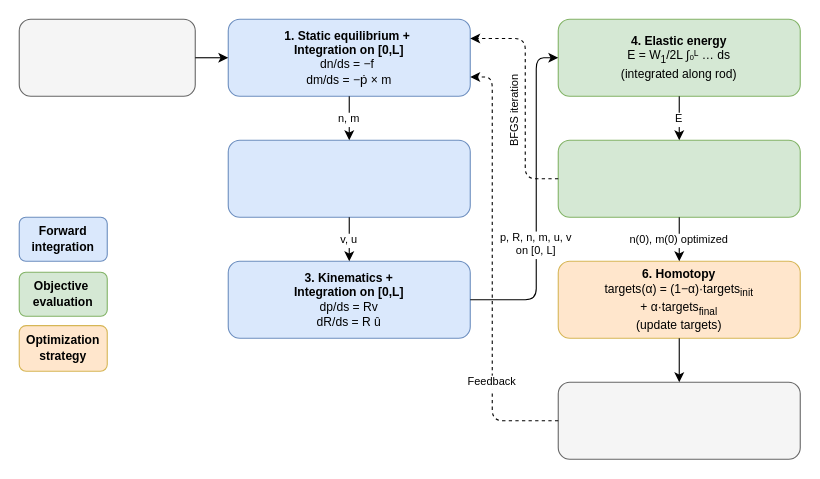
The diagram is 820 pixels wide and 479 high, and some of its shapes have lost their labels. Here are the shapes that lost their labels. From the top down, the centre of each, then its label:
[106,57]: Inputs initial state (straight rod) n 0 and m 0
[348,178]: 2. Constitutive laws v = ṽ + K tra ⁻¹ Rᵀn u = ũ + K rot ⁻¹ Rᵀm
[678,178]: 5. Cost function J = E + W 2 Σᵢ min s ‖p(s) − tᵢ‖² (fit to target points tᵢ)
[678,420]: Warm-start n(0), m(0) as initial guess for the next optimization step
